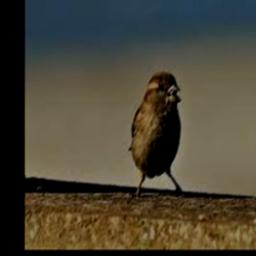Sparrow: (129, 70, 184, 196)
